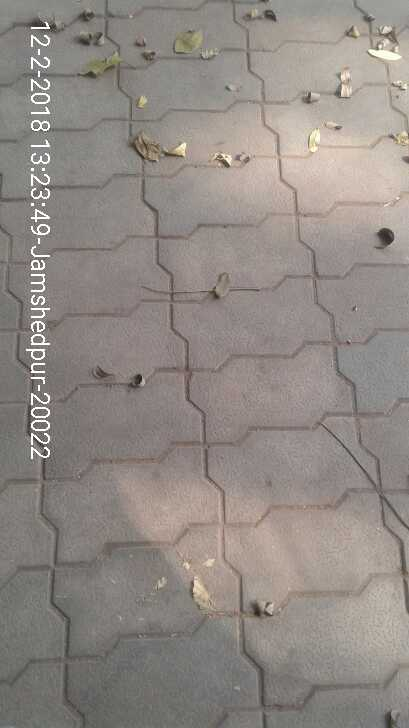reject: (149, 287, 232, 352)
